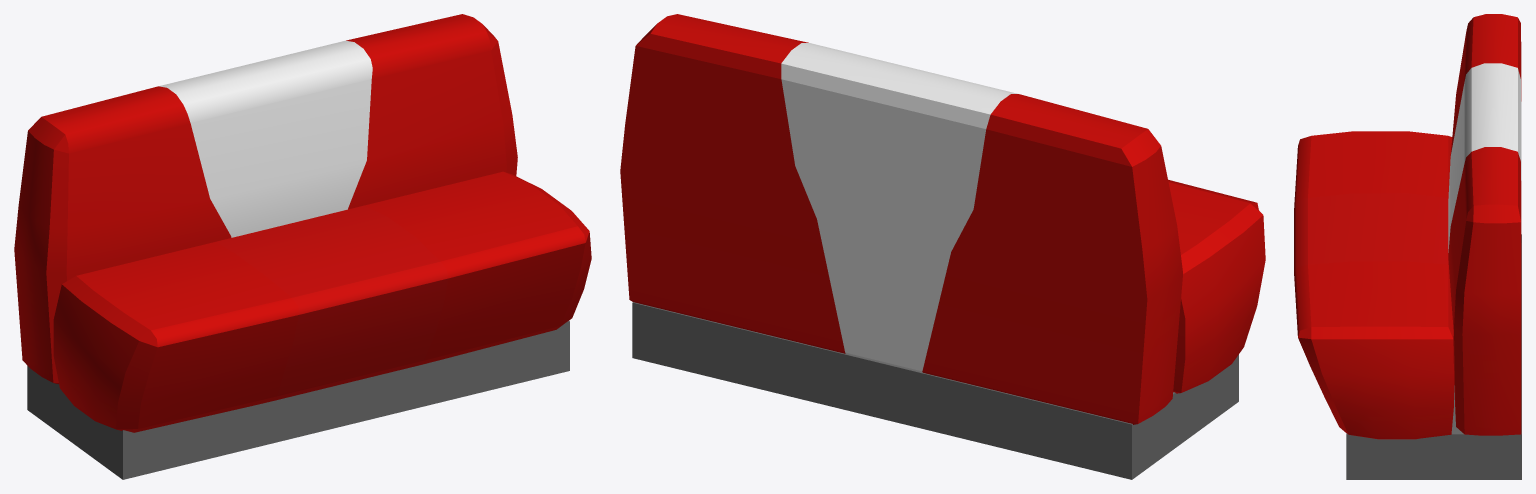
The model's file is sofa.glb.
3 renders of one model, left to right at view 1: azimuth 30°, elevation 25°; view 2: azimuth 150°, elevation 25°; view 3: azimuth 270°, elevation 25°, orthographic. The views are drawn at different scales.
Visible parts, largest first — view 1: fbx_hamburger_sofa.1; view 2: fbx_hamburger_sofa.1; view 3: fbx_hamburger_sofa.1.
Part boxes in pixels (<box>): fbx_hamburger_sofa.1: <box>14,14,591,479</box>; fbx_hamburger_sofa.1: <box>620,14,1265,479</box>; fbx_hamburger_sofa.1: <box>1294,14,1521,479</box>.
Size of the model in its own units: 4.07 by 2.44 by 1.84.
2 materials, 2 textured.
